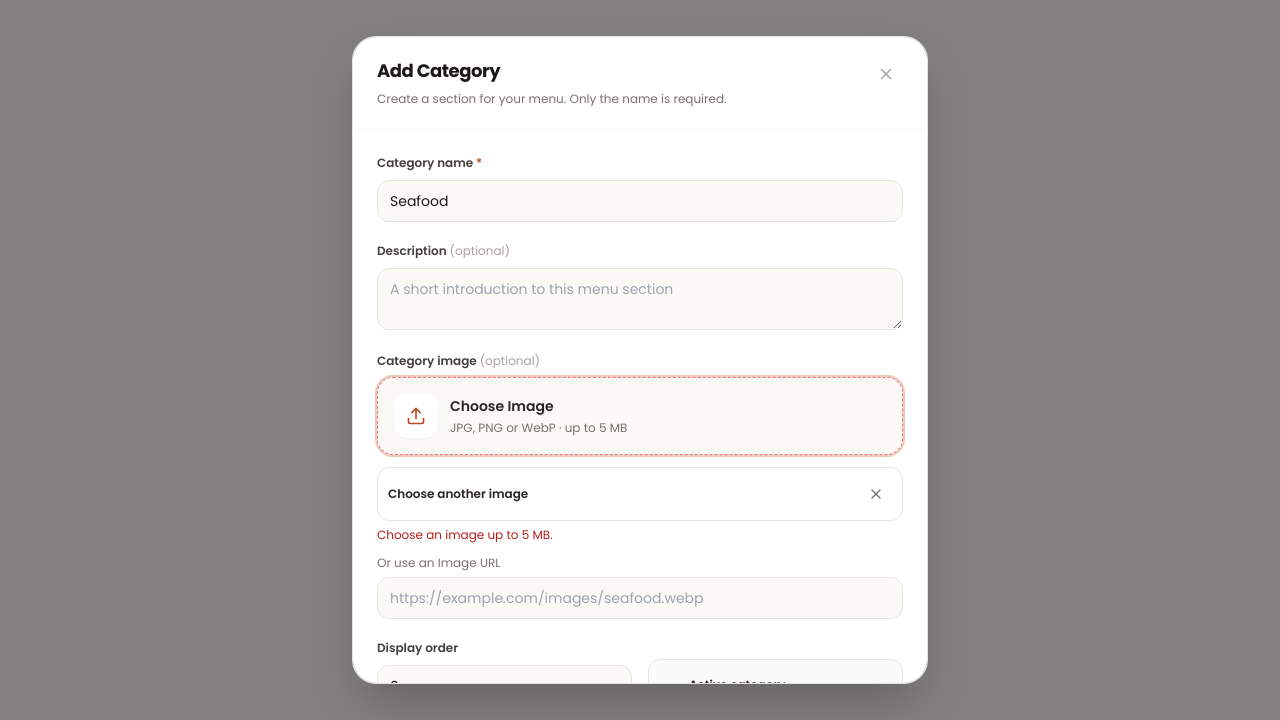
Test: category image selection › blocks invalid or oversized files and allows removing the validation error
Earlier steps of the test are not shown.
Later steps or results of the test are not shown.
Expected: the message shows "up to 5 MB", left=377, top=526, right=553, bottom=542
Click the button named "Remove category image": (876, 494) left=860, top=478, right=892, bottom=510
(page scrolled)
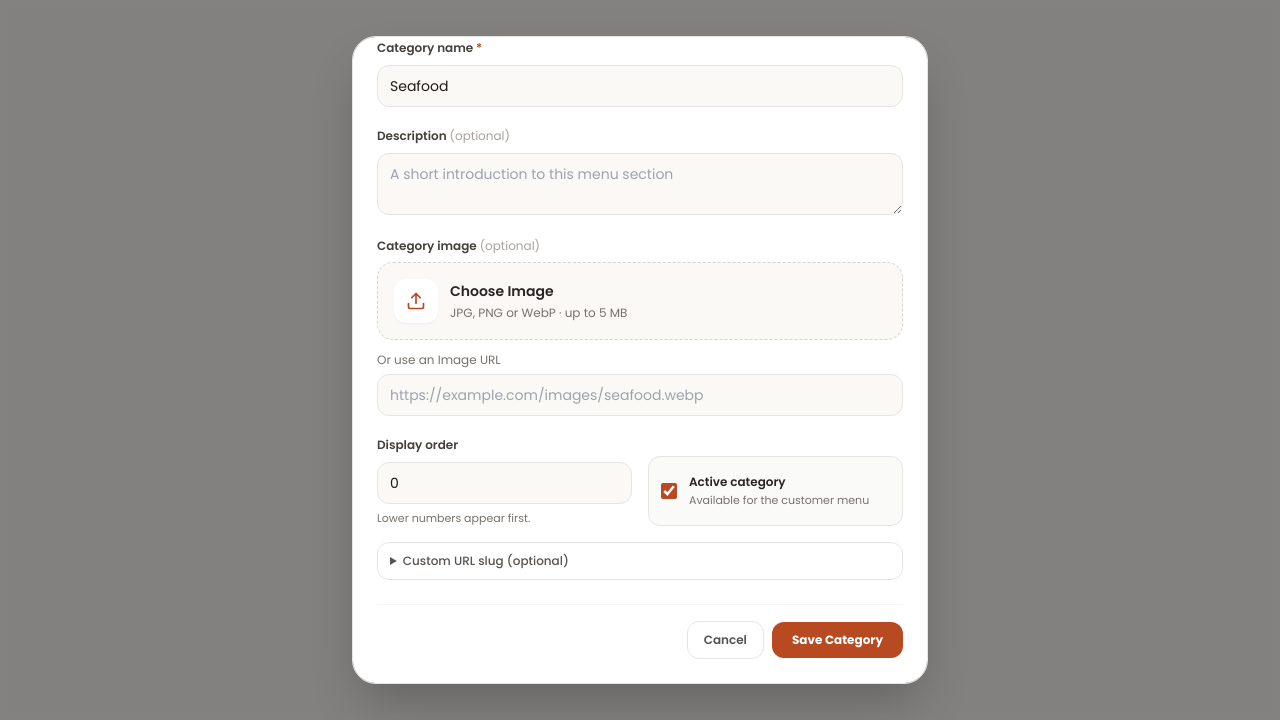
Expected: the message "Choose an image up to 5 MB." is gone
